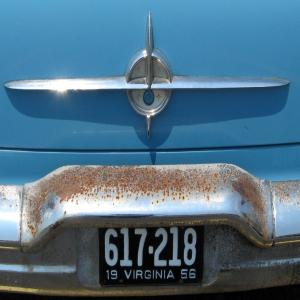Vehicle-registration-plate: (100, 226, 204, 285)
